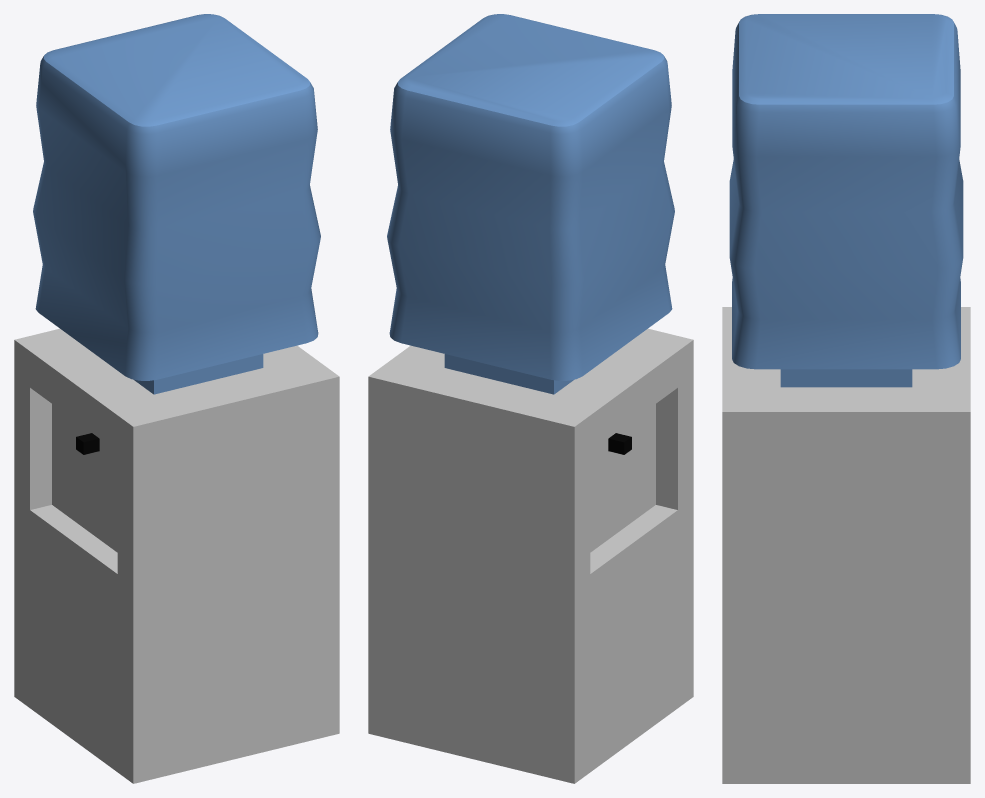
Rendered from Coldeer.fbx.
3 views of the same model, side by side, from view 1: azimuth 30°, elevation 25°; view 2: azimuth 150°, elevation 25°; view 3: azimuth 270°, elevation 25° (orthographic). The views are drawn at different scales.
Visible parts, largest first — view 1: Cube; view 2: Cube; view 3: Cube.
Part boxes in pixels (x1,y1,x2,y2): Cube: (14, 14, 339, 783); Cube: (368, 14, 693, 783); Cube: (722, 14, 970, 783).
Size of the model in its own units: 50 by 150 by 50.
